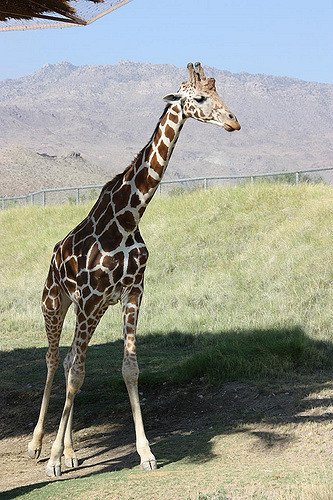giraffe: (29, 51, 247, 474)
